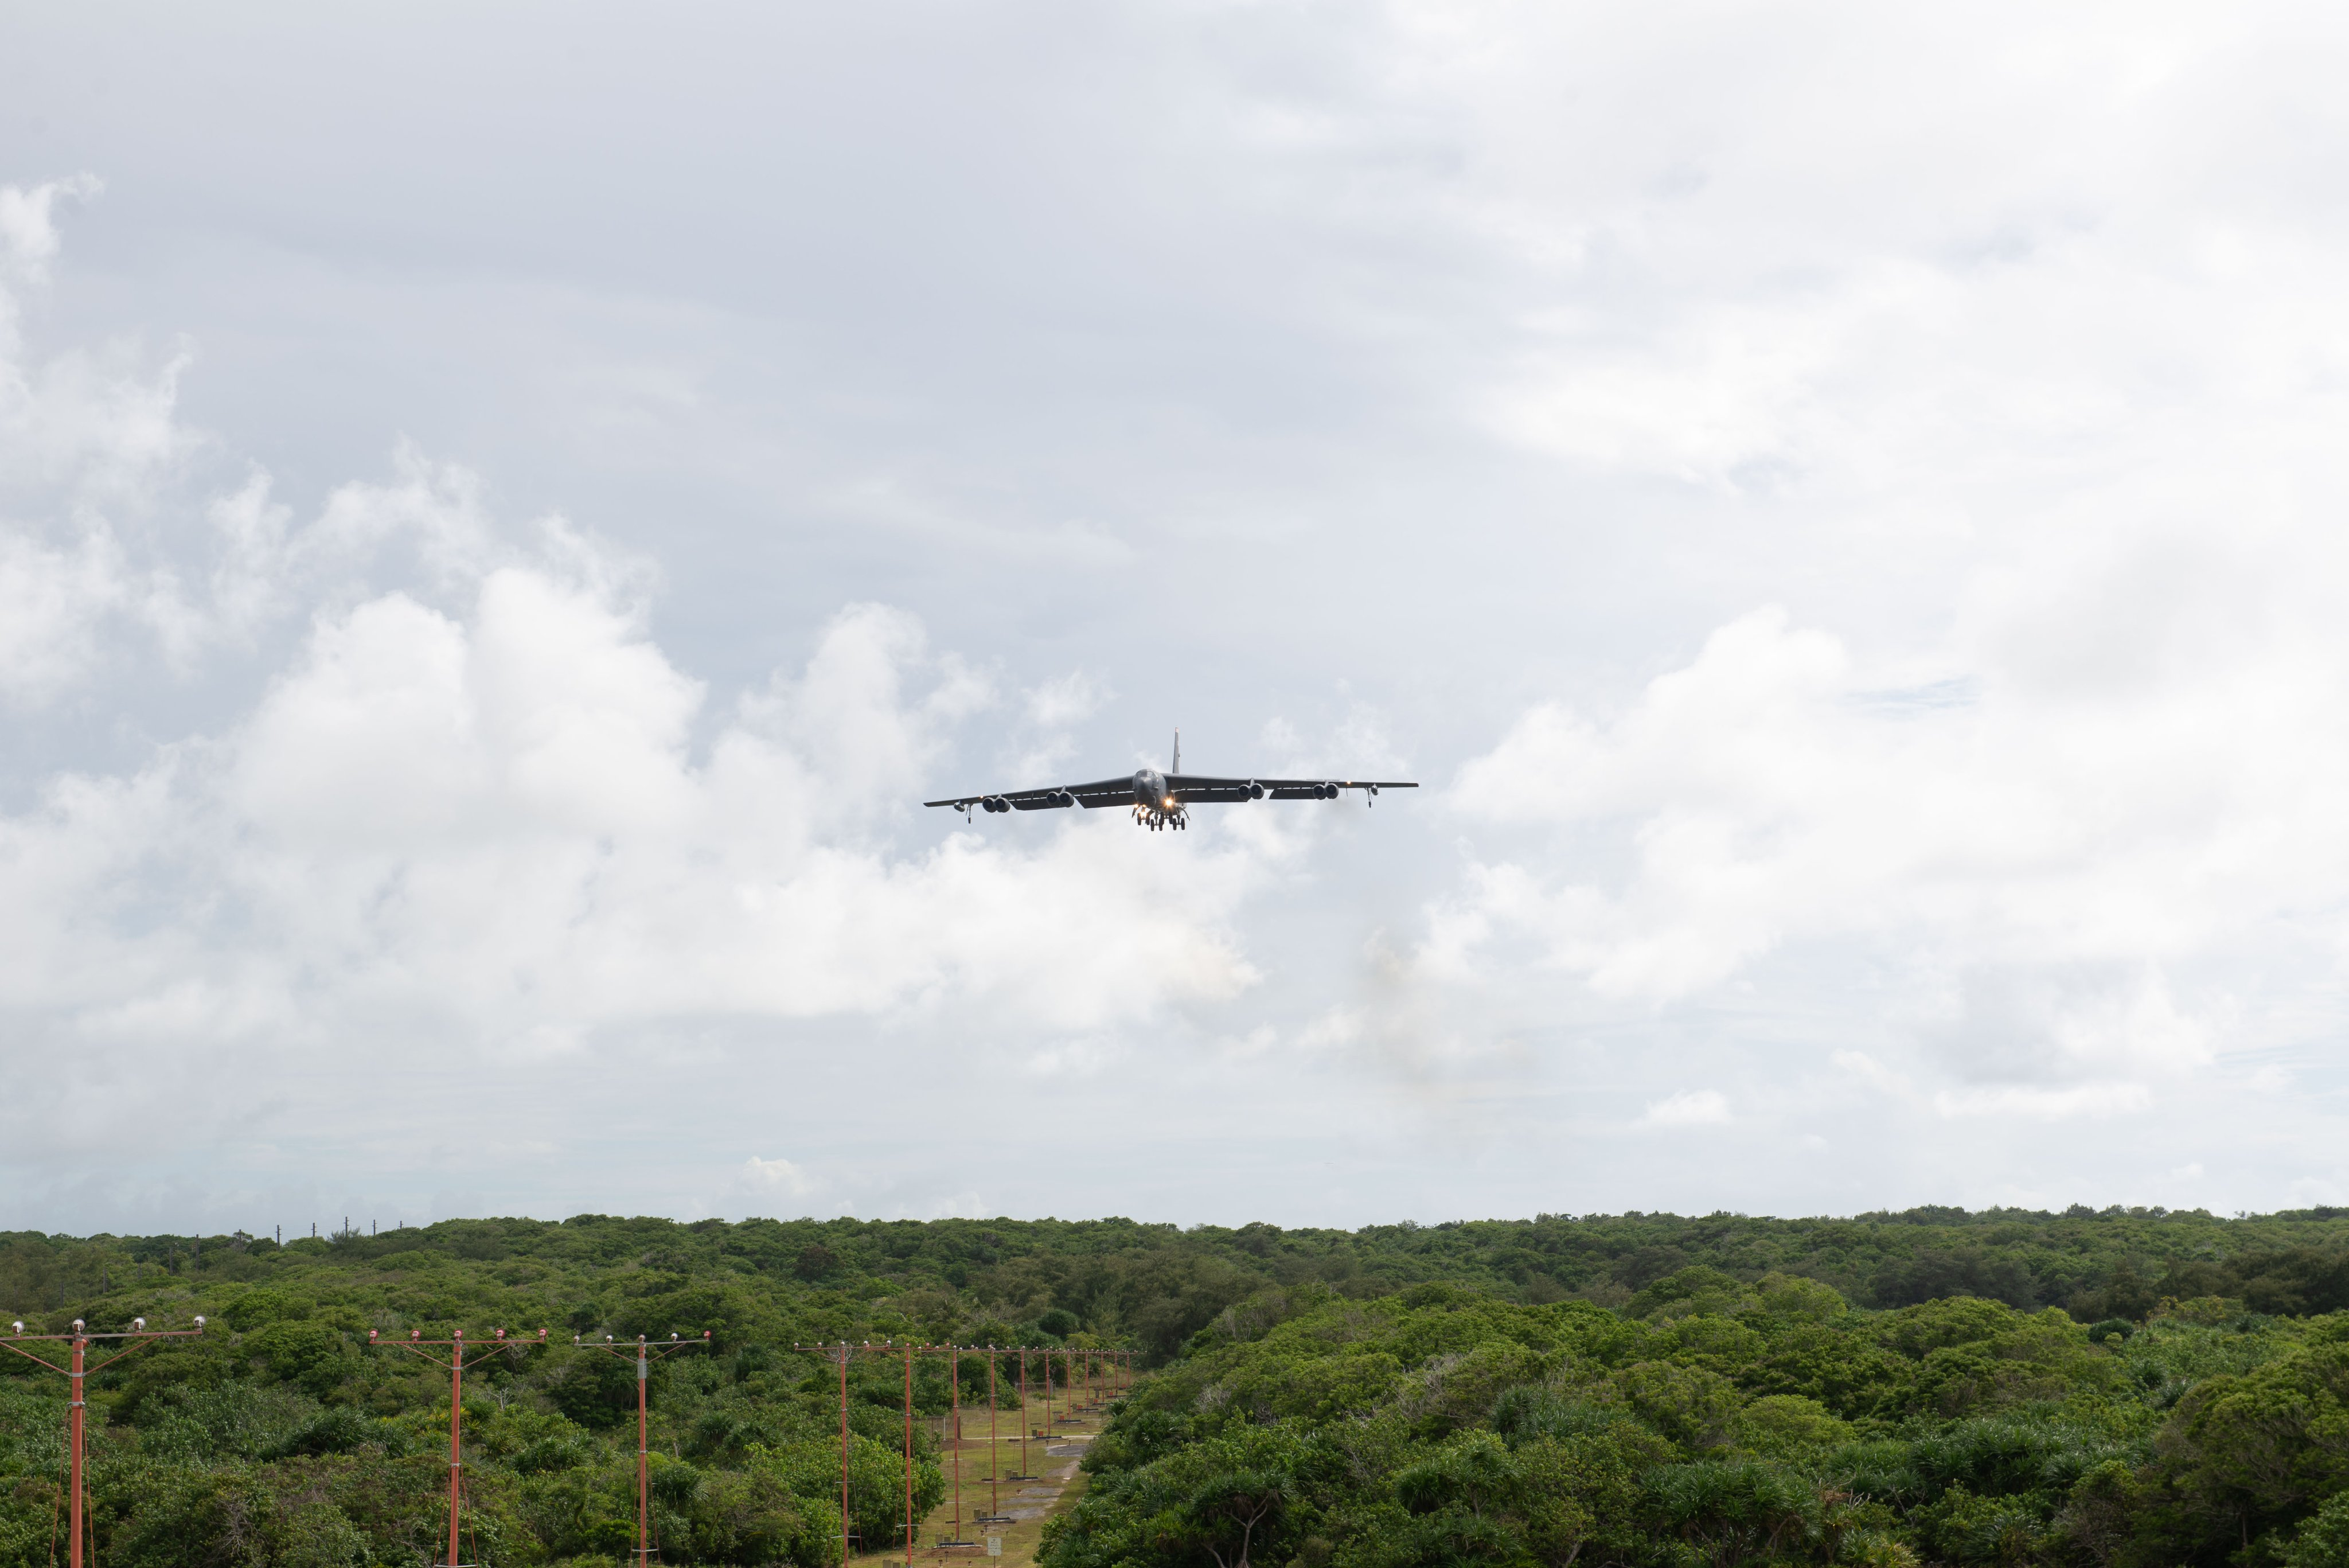B52: (924, 726, 1418, 831)
